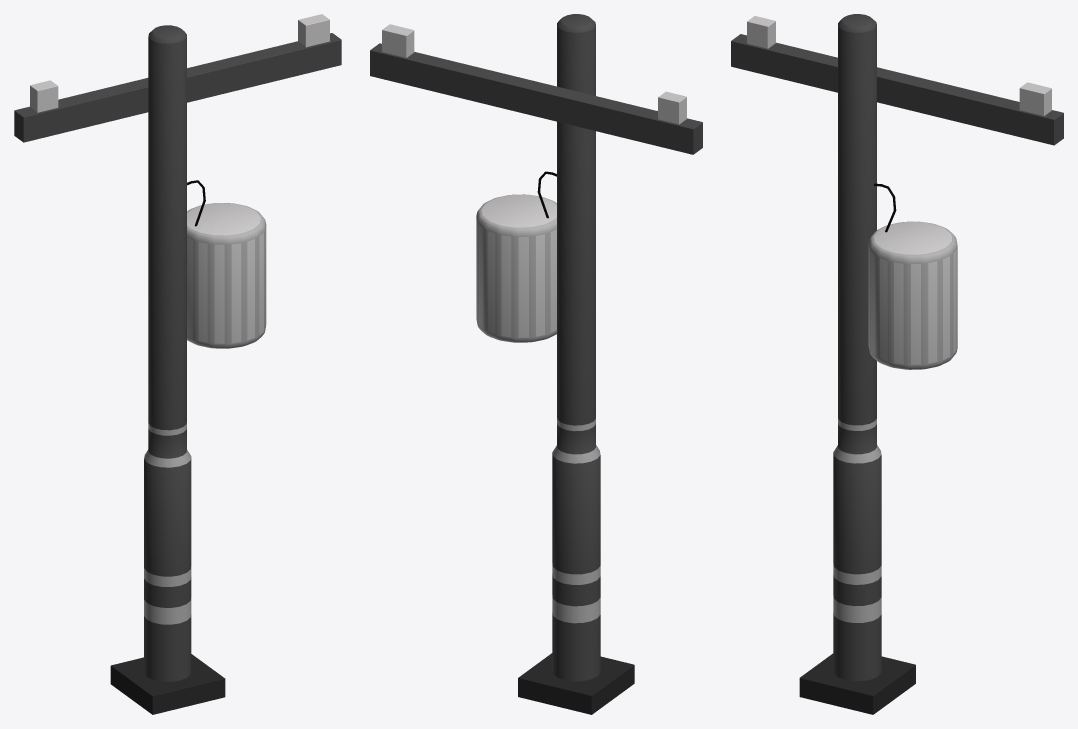
The model's file is EletricPost.fbx.
The picture shows the model from 3 angles, left to right: view 1: azimuth 30°, elevation 25°; view 2: azimuth 150°, elevation 25°; view 3: azimuth 330°, elevation 25°; orthographic projection.
Visible parts, largest first — view 1: Base.001; view 2: Base.001; view 3: Base.001.
Part boxes in pixels (x1,y1,x2,y2): Base.001: (14, 14, 341, 714); Base.001: (370, 14, 702, 714); Base.001: (731, 14, 1063, 714).
Size of the model in its own units: 299 by 592 by 71.69.
